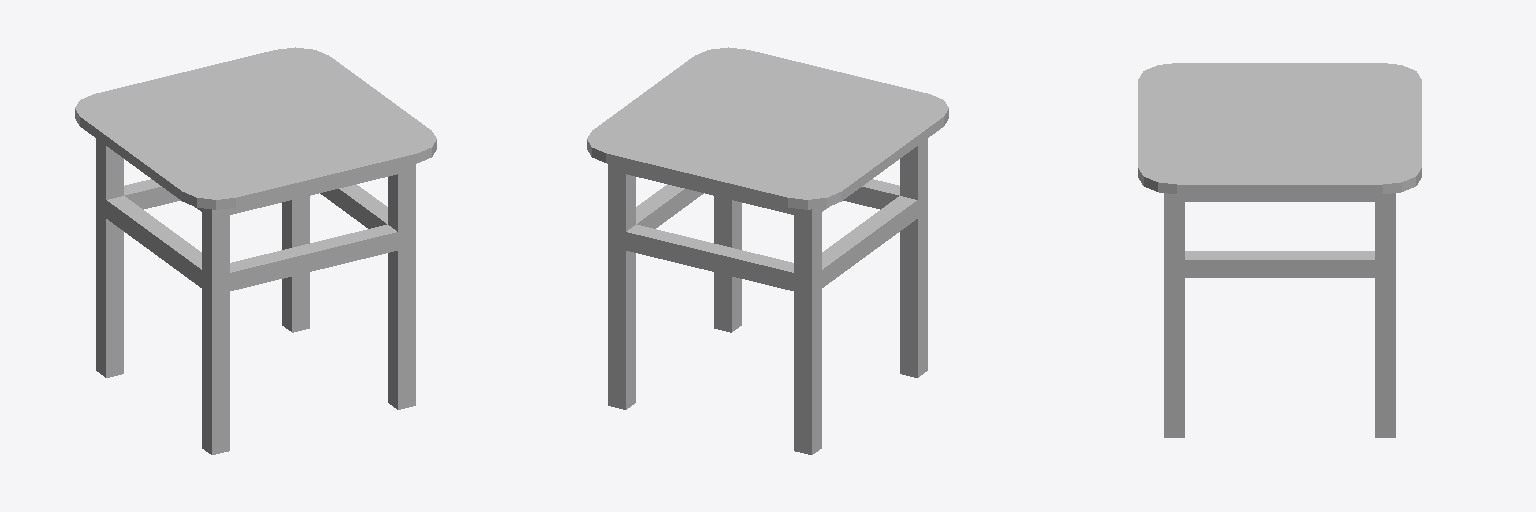
File: Chair03.obj
3 renders of one model, left to right at view 1: azimuth 30°, elevation 25°; view 2: azimuth 150°, elevation 25°; view 3: azimuth 270°, elevation 25°, orthographic.
Visible parts, largest first — view 1: Chair04_LOD0_Chair1.001; view 2: Chair04_LOD0_Chair1.001; view 3: Chair04_LOD0_Chair1.001.
Boxes of the visible parts, x1,y1,x2,y2 form: Chair04_LOD0_Chair1.001: [75, 47, 436, 454]; Chair04_LOD0_Chair1.001: [587, 47, 948, 454]; Chair04_LOD0_Chair1.001: [1138, 63, 1421, 437].
Bounding box in the file's own units: 0.4523 × 0.4585 × 0.4452.